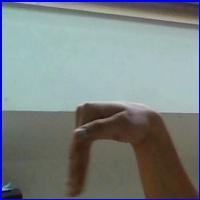A: (68, 94, 160, 190)
